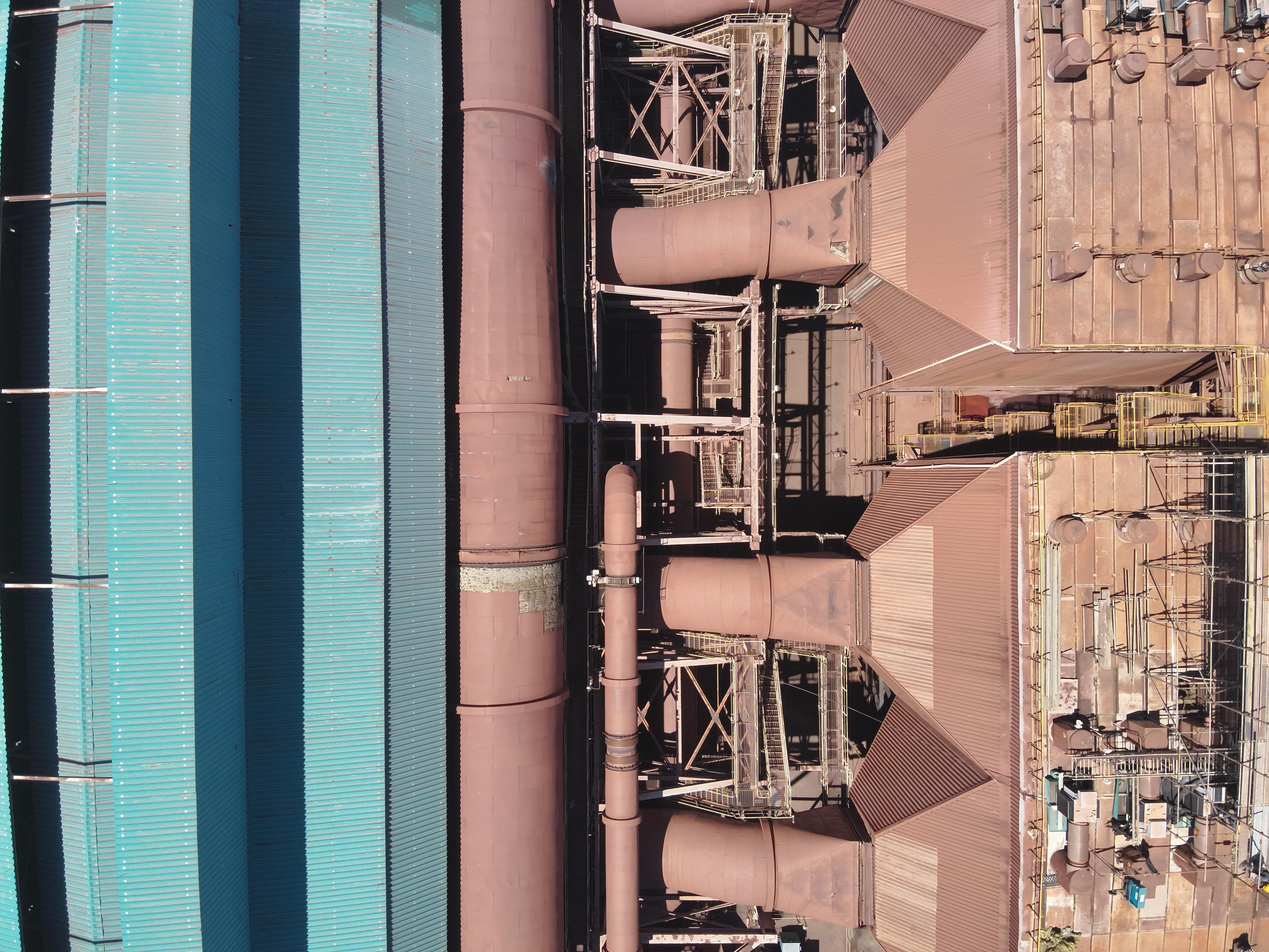Failures: (452, 561, 564, 592), (518, 592, 567, 616), (829, 240, 852, 266), (542, 615, 568, 637), (506, 374, 533, 384)
